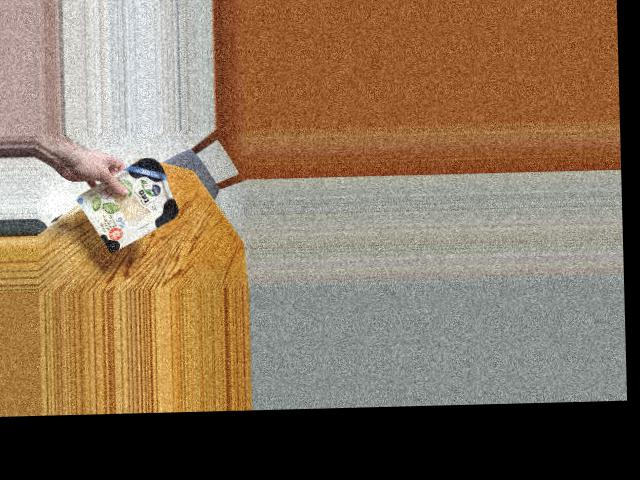cheese: (87, 158, 177, 247)
